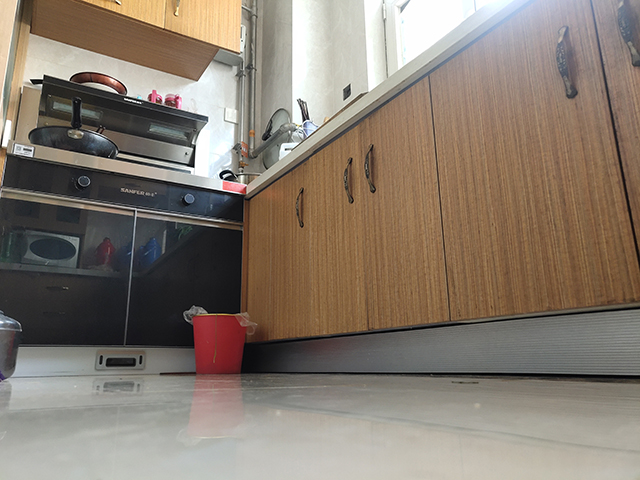cabinet: (247, 1, 640, 378)
trashcan: (191, 312, 250, 376)
